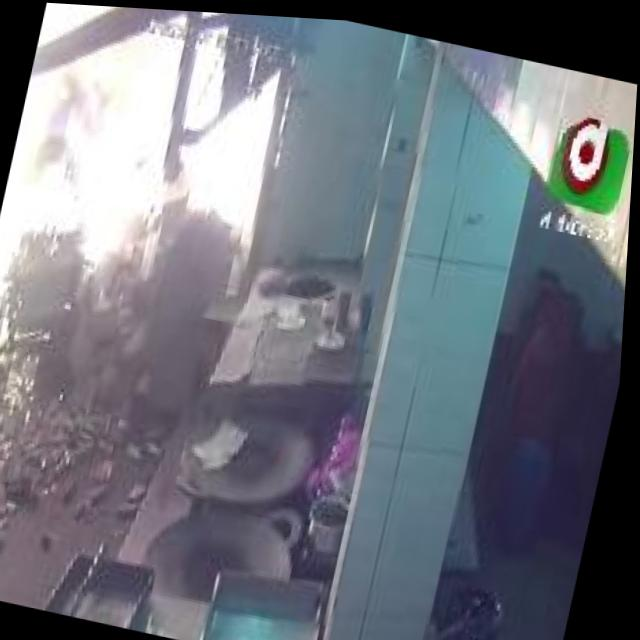fire: (49, 28, 291, 323), (0, 0, 155, 386)
